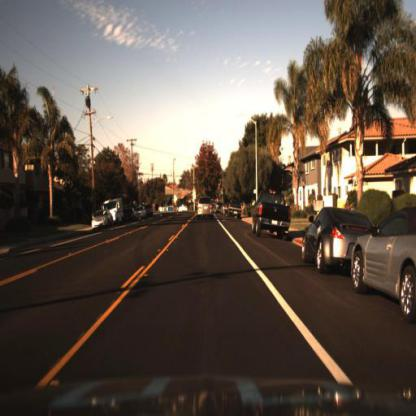car: (350, 204, 416, 320), (302, 210, 378, 272), (251, 182, 295, 246), (88, 205, 115, 234), (105, 197, 124, 228), (197, 197, 215, 228), (91, 208, 114, 232), (226, 197, 247, 222), (112, 199, 126, 225), (123, 204, 137, 225), (145, 199, 154, 219), (136, 206, 146, 222)
